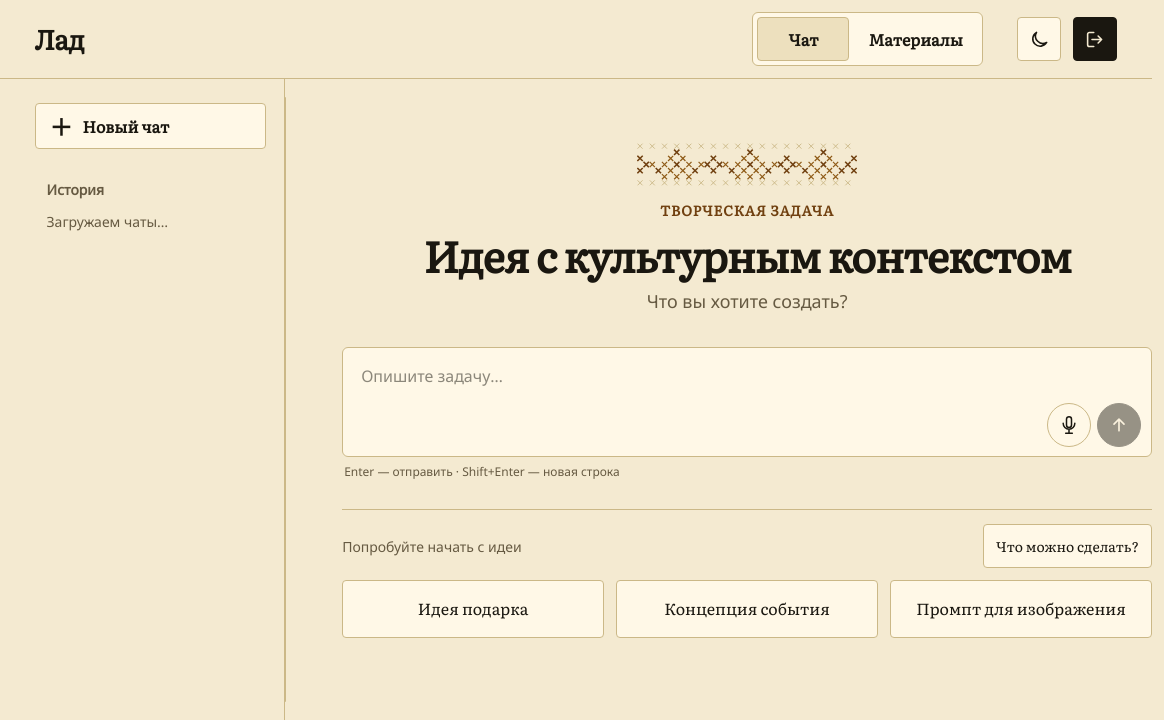
Test: materials show no unapproved candidates
Expected: the heading "Идея с культурным контекстом" is shown, [424,222,1071,286]
Click the button "Материалы". click: point(916, 39)
box: [853,17,978,61]
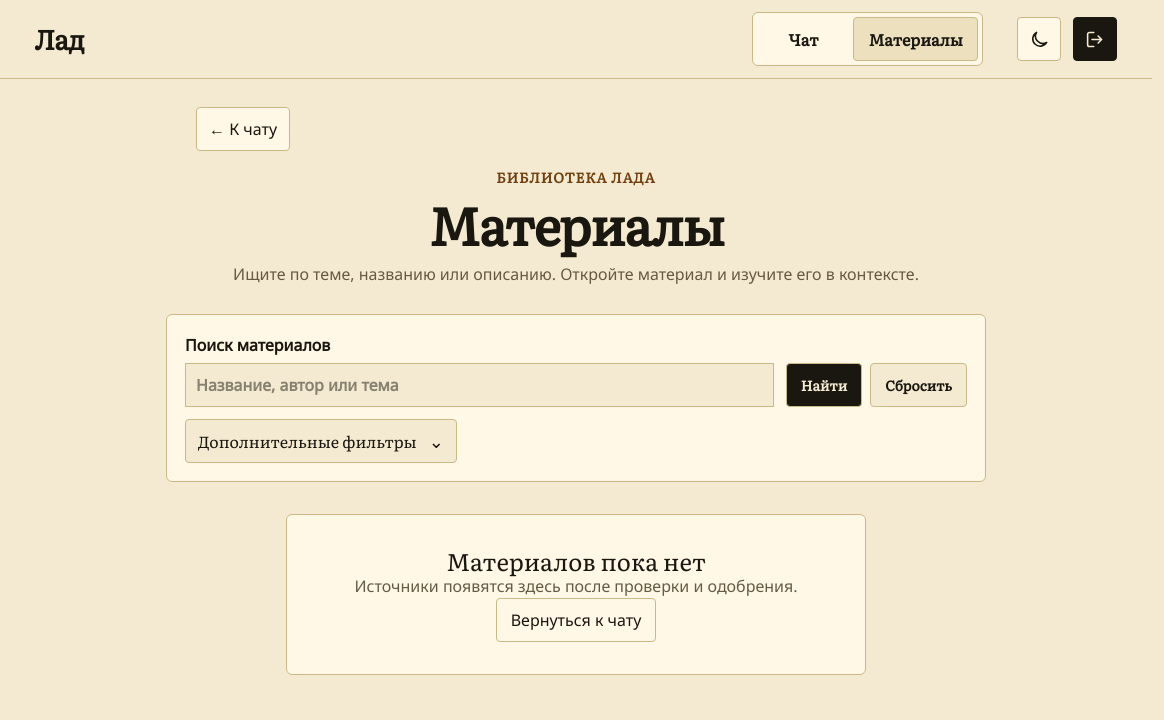
Now the heading "Материалов пока нет" is shown, box [446,543,706,578]
